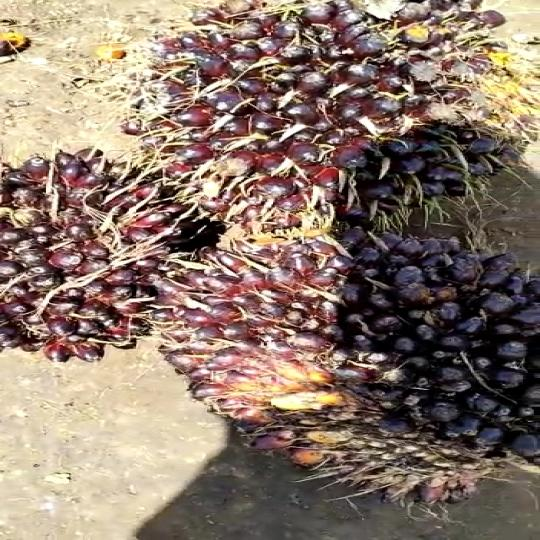mentah: (129, 219, 540, 503), (108, 2, 518, 232), (0, 127, 230, 354)
